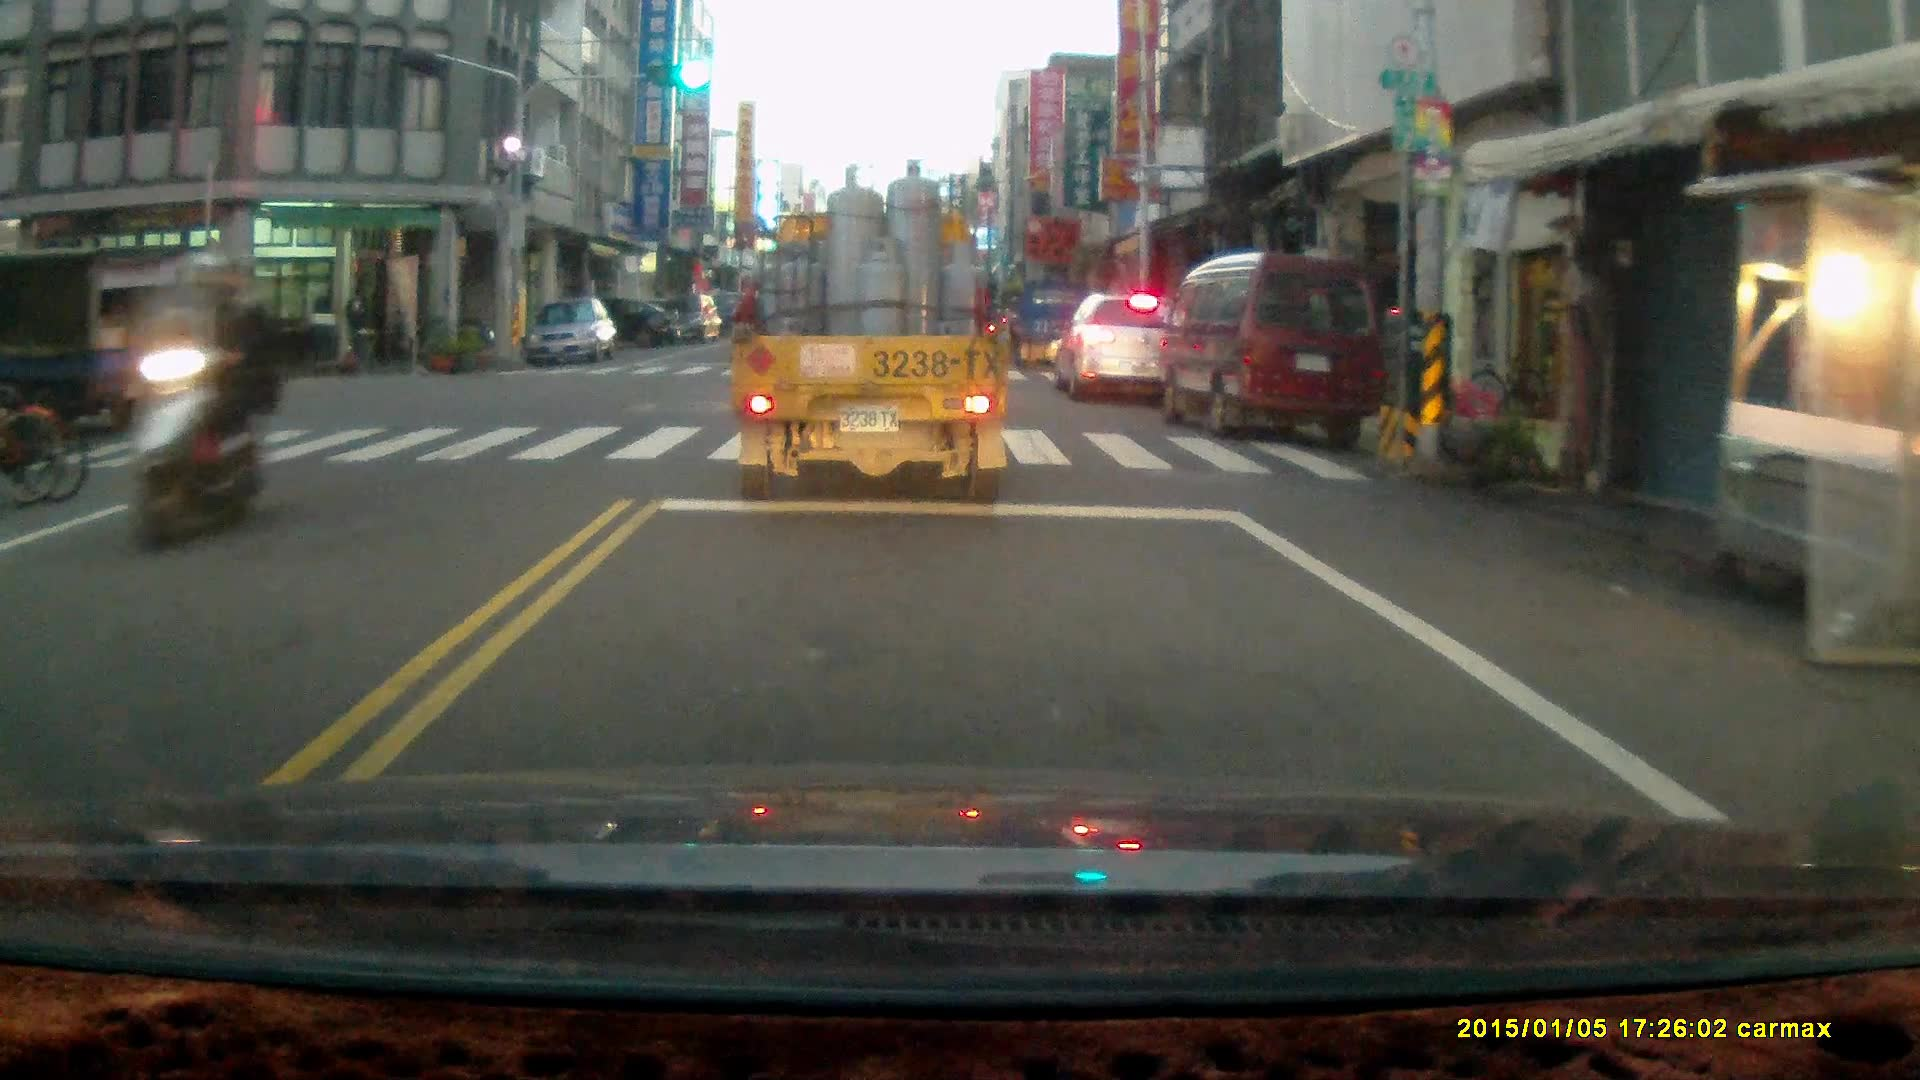pedestrian: (341, 281, 375, 375)
rider: (122, 248, 265, 554)
vehicle: (733, 165, 1014, 509), (1160, 252, 1390, 446), (1, 247, 177, 432), (1048, 289, 1198, 411), (1007, 279, 1101, 378), (554, 298, 681, 357), (526, 298, 622, 368), (643, 293, 722, 343)
